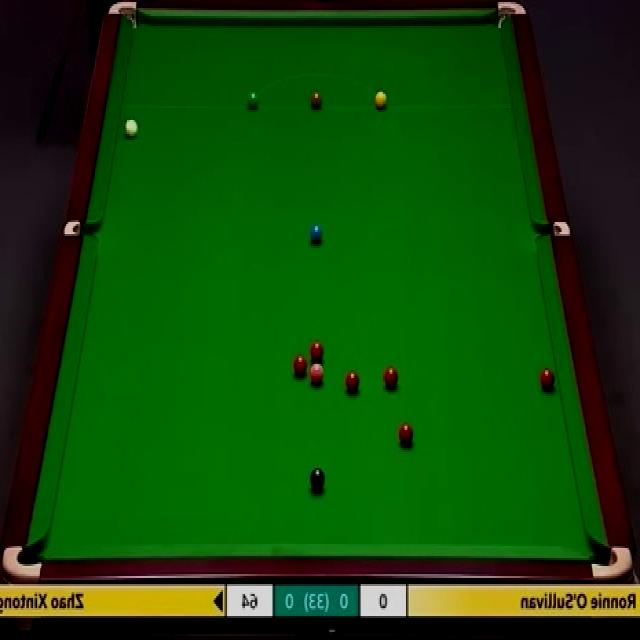black-ball: (309, 467, 325, 492)
blue-ball: (309, 222, 324, 245)
brown-ball: (310, 91, 323, 110)
green-ball: (247, 90, 259, 112)
pink-ball: (309, 362, 323, 385)
red-ball: (290, 354, 308, 380), (382, 364, 398, 392), (397, 422, 415, 446), (344, 370, 360, 397), (540, 367, 555, 392), (310, 339, 324, 364)
white-ball: (124, 114, 141, 141)
yellow-ball: (375, 88, 387, 108)
